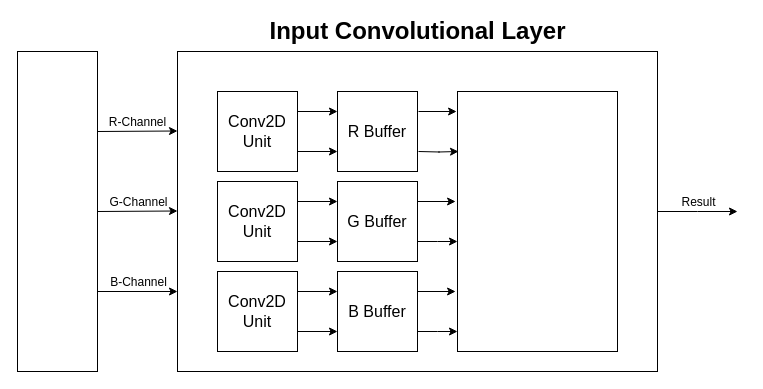
The diagram is 763 pixels wide and 389 high, and some of its shapes have lost their labels. Here are the shapes that lost their labels. From the top down, the centre of each, then its label:
At (57,211): "Target Image".
At (537,221): "Combiner Unit".
